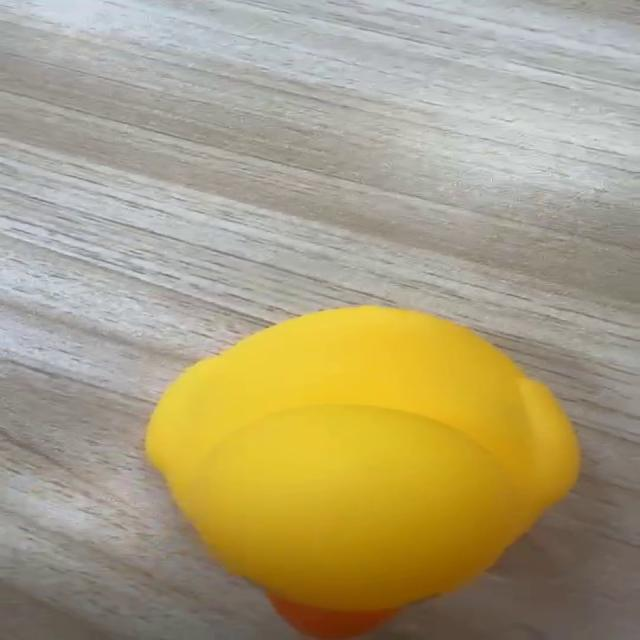yellow_duck: (141, 304, 582, 638)
